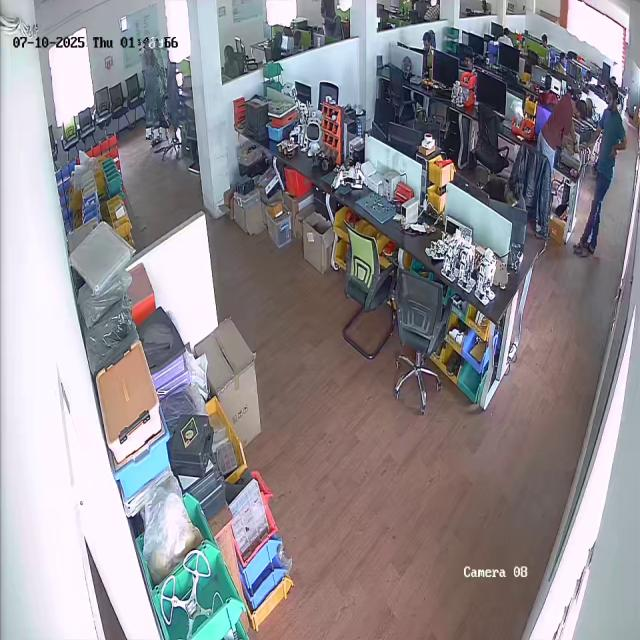person: (576, 85, 628, 258), (142, 38, 171, 141)
